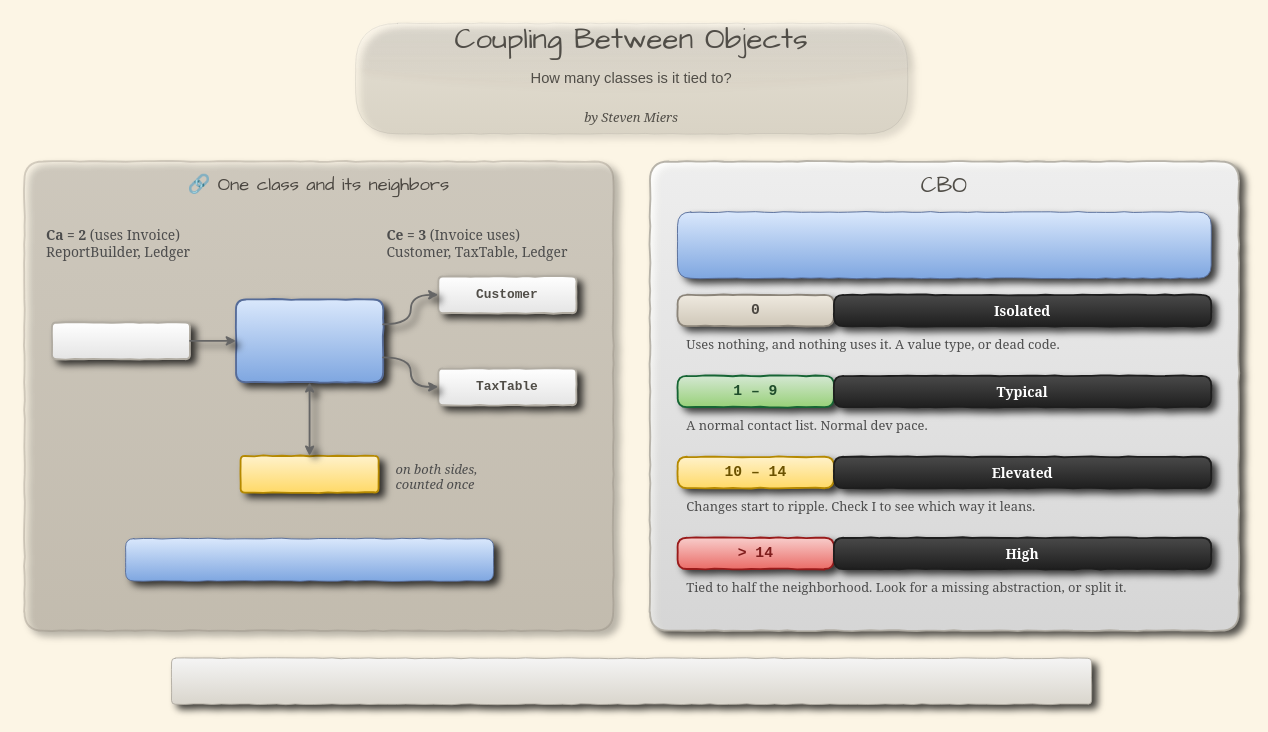
Some shapes in this 1268 by 732 pixel diagram are drawn without their labels. The centre of each missing label's shape, as x and y in pixels:
"CBO : Part 1's Ca and Ce at class level, with the arrows erased." belongs at (x=633, y=683).
"CBO = 2 + 3 − 1 = 4" belongs at (x=311, y=561).
"CBO = | dependents ∪ dependencies | = Ca + Ce − (classes on both sides)" belongs at (x=946, y=247).
"Invoice given class" belongs at (x=312, y=343).
"Ledger" belongs at (x=312, y=476).
"ReportBuilder" belongs at (x=123, y=343).
